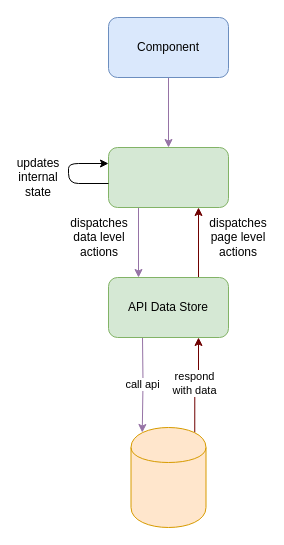
This 284x545 diagram has some shape labels left out. Here are the shapes that lost their labels. From the top down, the box of each, then its label:
(108, 146, 228, 208): Page Store
(130, 426, 206, 528): Data Provider
